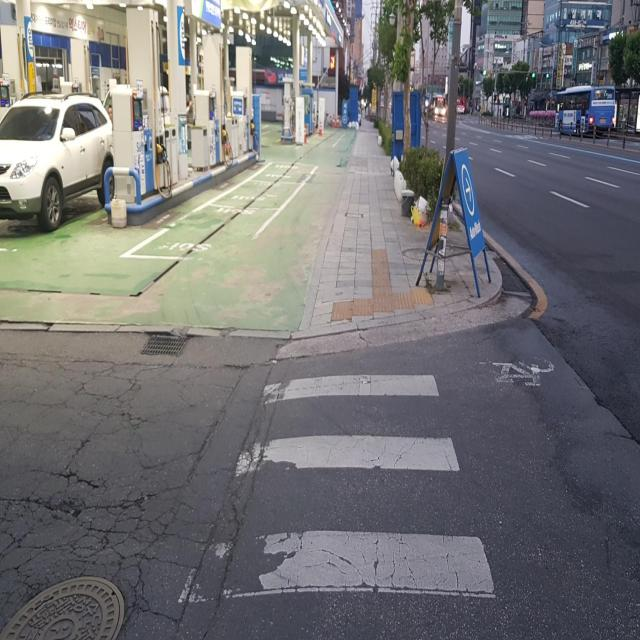횡단보도: (173, 371, 498, 608)
